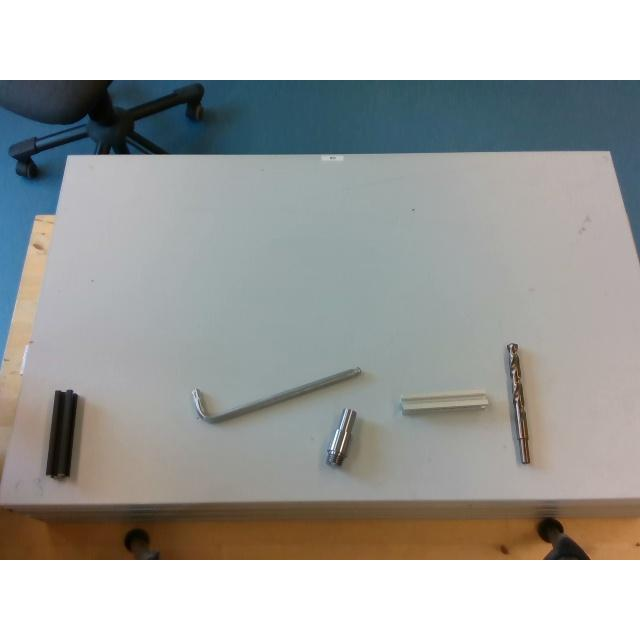AllenKey: (192, 366, 360, 422)
Axis2: (326, 408, 356, 464)
Drill: (506, 343, 530, 463)
F20_20_B: (46, 389, 78, 478)
F20_20_G: (400, 390, 488, 414)
